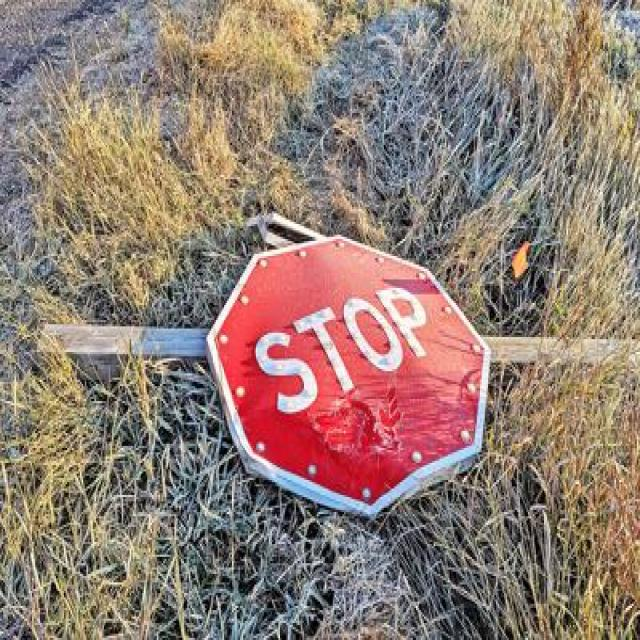stop-sign: (219, 230, 480, 545)
